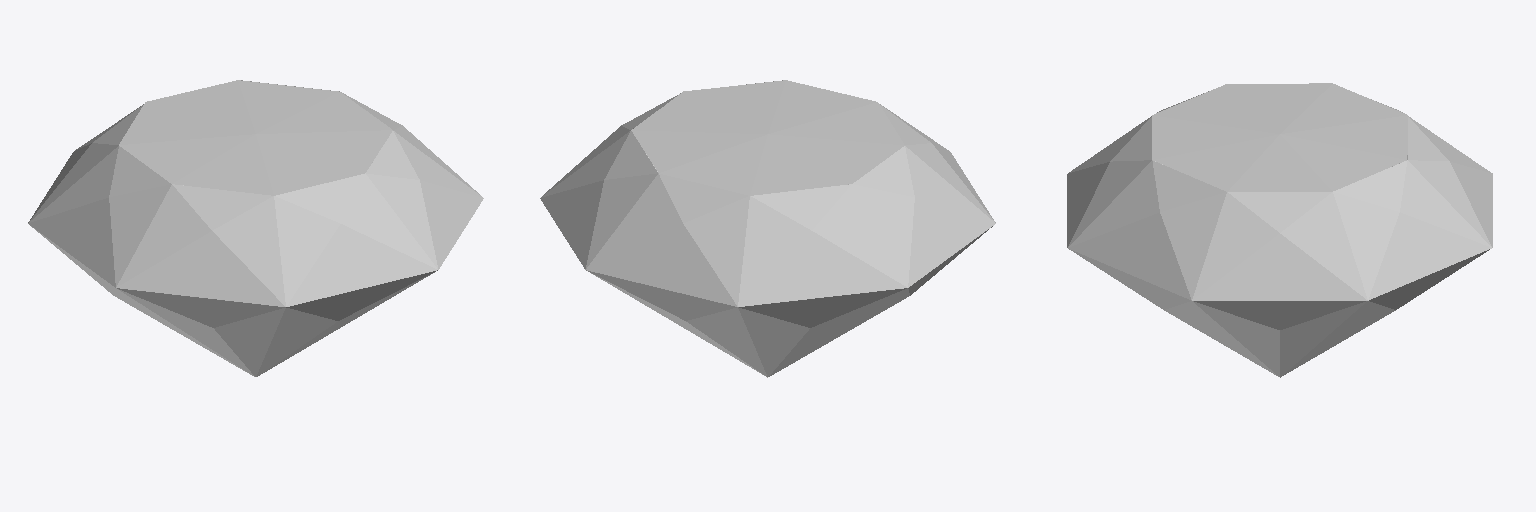
File: gem.obj
3 views of the same model, side by side, from view 1: azimuth 30°, elevation 25°; view 2: azimuth 150°, elevation 25°; view 3: azimuth 270°, elevation 25° (orthographic).
Parts seen in each view (by area): view 1: Black_Gem.013; view 2: Black_Gem.013; view 3: Black_Gem.013.
Boxes of the visible parts, <box> form: Black_Gem.013: <box>28,80,483,376</box>; Black_Gem.013: <box>540,80,995,377</box>; Black_Gem.013: <box>1067,83,1492,377</box>.
Bounding box in the file's own units: 1.85 × 1.17 × 1.85.